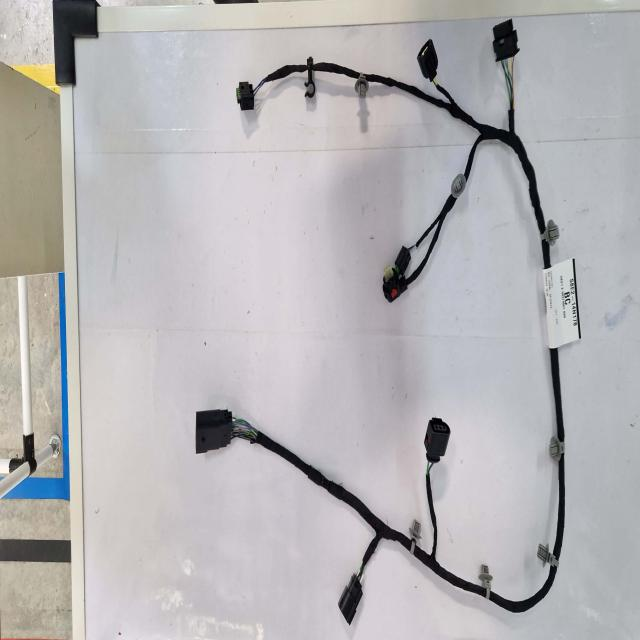Clip: (538, 544, 559, 568), (540, 219, 559, 245), (479, 565, 492, 599), (409, 520, 421, 554), (451, 173, 466, 200), (305, 57, 315, 97), (549, 437, 565, 461), (355, 74, 369, 97)
Connector: (196, 409, 232, 454), (382, 247, 411, 302), (492, 19, 519, 62), (339, 575, 362, 625), (425, 418, 450, 463), (418, 40, 438, 81), (236, 81, 254, 112)
MHEV_N11_Cable: (242, 423, 411, 625), (369, 74, 545, 230), (412, 435, 565, 613), (384, 192, 455, 299), (250, 64, 305, 100), (550, 349, 564, 447), (308, 59, 360, 78), (426, 40, 436, 81)
